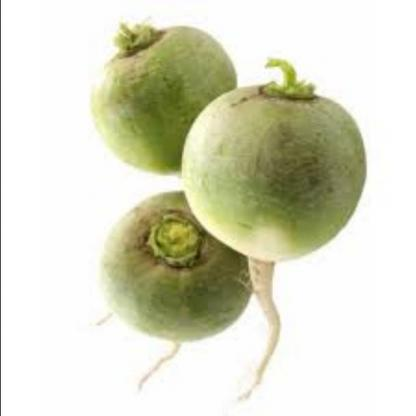redka: (177, 72, 366, 266), (94, 190, 259, 344), (88, 23, 243, 177)
